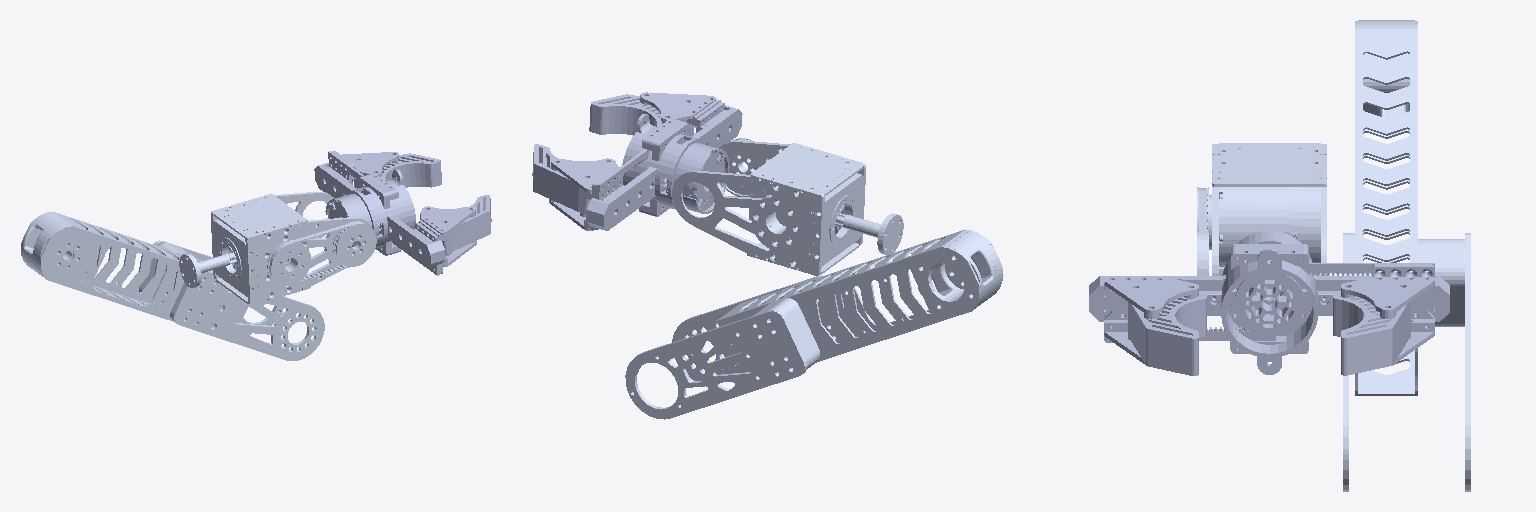
URDF robot description (engineer):
<?xml version="1.0" encoding="utf-8"?>
<robot name="engineer">

  <link name="base_link">
    <inertial>
      <origin xyz="0.00030037 1.9092E-05 0.047222" rpy="0 0 0" />
      <mass value="0.69152" />
      <inertia ixx="0.00080599" ixy="-3.5231E-09" ixz="-4.3565E-08" iyy="0.00052506" iyz="-1.1744E-08" izz="0.00121" />
    </inertial>
    <visual>
      <origin xyz="0 0 0" rpy="0 0 0" />
      <geometry>
        <mesh filename="package://rm_description/meshes/base_link.STL" />
      </geometry>
      <material name="">
        <color rgba="0.86667 0.9098 1 1" />
      </material>
    </visual>
    <collision>
      <origin xyz="0 0 0" rpy="0 0 0" />
      <geometry>
        <mesh filename="package://rm_description/meshes/base_link.STL" />
      </geometry>
    </collision>
  </link>

  <link name="link_1">
    <inertial>
      <origin xyz="9.3842E-05 0.04132 -0.01345" rpy="0 0 0" />
      <mass value="0.45604" />
      <inertia ixx="0.00047426" ixy="4.8904E-09" ixz="-2.522E-08" iyy="0.00088038" iyz="8.5229E-09" izz="0.00054714" />
    </inertial>
    <visual>
      <origin xyz="0 0 0" rpy="0 0 0" />
      <geometry>
        <mesh filename="package://rm_description/meshes/link_1.STL" />
      </geometry>
      <material name="">
        <color rgba="0.79216 0.81961 0.93333 1" />
      </material>
    </visual>
    <collision>
      <origin xyz="0 0 0" rpy="0 0 0" />
      <geometry>
        <mesh filename="package://rm_description/meshes/link_1.STL" />
      </geometry>
    </collision>
  </link>

  <joint name="Joint_1" type="revolute">
    <origin xyz="0 0 0.1537" rpy="0 0 0" />
    <parent link="base_link" />
    <child link="link_1" />
    <axis xyz="0 0 -1" />
    <limit lower="-3.14" upper="3.14" effort="20" velocity="3.14" />
  </joint>

  <link name="link_2">
    <inertial>
      <origin xyz="-9.1476E-12 -0.16105 0.022952" rpy="0 0 0" />
      <mass value="0.46831" />
      <inertia ixx="0.0015771" ixy="-1.5472E-12" ixz="9.6087E-12" iyy="0.00024772" iyz="-1.4099E-06" izz="0.0017042" />
    </inertial>
    <visual>
      <origin xyz="0 0 0" rpy="0 0 0" />
      <geometry>
        <mesh filename="package://rm_description/meshes/link_2.STL" />
      </geometry>
      <material name="">
        <color rgba="0.86667 0.9098 1 1" />
      </material>
    </visual>
    <collision>
      <origin xyz="0 0 0" rpy="0 0 0" />
      <geometry>
        <mesh filename="package://rm_description/meshes/link_2.STL" />
      </geometry>
    </collision>
  </link>

  <joint name="Joint_2" type="revolute">
    <origin xyz="0 0 0" rpy="-1.5708 -1.07 0" />
    <parent link="link_1" />
    <child link="link_2" />
    <axis xyz="0 0 -1" />
    <limit lower="-3.14" upper="3.14" effort="40" velocity="3.14" />
  </joint>

  <link name="link_3">
    <inertial>
      <origin xyz="-0.0086386 0.052282 0.0060748" rpy="0 0 0" />
      <mass value="0.86383" />
      <inertia ixx="0.0010242" ixy="9.2316E-05" ixz="-9.3667E-07" iyy="0.00063197" iyz="-2.0009E-06" izz="0.0010338" />
    </inertial>
    <visual>
      <origin xyz="0 0 0" rpy="0 0 0" />
      <geometry>
        <mesh filename="package://rm_description/meshes/link_3.STL" />
      </geometry>
      <material name="">
        <color rgba="0.75294 0.75294 0.75294 1" />
      </material>
    </visual>
    <collision>
      <origin xyz="0 0 0" rpy="0 0 0" />
      <geometry>
        <mesh filename="package://rm_description/meshes/link_3.STL" />
      </geometry>
    </collision>
  </link>

  <joint name="Joint_3" type="revolute">
    <origin xyz="0 -0.295 -0.05765" rpy="0 0 -0.55" />
    <parent link="link_2" />
    <child link="link_3" />
    <axis xyz="0 0 1" />
    <limit lower="-3.14" upper="3.14" effort="30" velocity="3.14" />
  </joint>

  <link name="link_4">
    <inertial>
      <origin xyz="0.00031203 0.0049107 -0.080078" rpy="0 0 0" />
      <mass value="0.35626" />
      <inertia ixx="0.00023409" ixy="-2.327E-12" ixz="9.1544E-09" iyy="0.00027599" iyz="-4.4166E-09" izz="0.00014292" />
    </inertial>
    <visual>
      <origin xyz="0 0 0" rpy="0 0 0" />
      <geometry>
        <mesh filename="package://rm_description/meshes/link_4.STL" />
      </geometry>
      <material name="">
        <color rgba="0.86667 0.9098 1 1" />
      </material>
    </visual>
    <collision>
      <origin xyz="0 0 0" rpy="0 0 0" />
      <geometry>
        <mesh filename="package://rm_description/meshes/link_4.STL" />
      </geometry>
    </collision>
  </link>

  <joint name="Joint_4" type="continuous">
    <origin xyz="-0.0245 0.27098 0" rpy="-1.5708 0 0" />
    <parent link="link_3" />
    <child link="link_4" />
    <axis xyz="0 0 -1" />
    <limit lower="-3.14" upper="3.14" effort="3" velocity="3.14" />
  </joint>

  <link name="link_5">
    <inertial>
      <origin xyz="-7.1873E-05 0.0032566 3.0102E-05" rpy="0 0 0" />
      <mass value="0.10486" />
      <inertia ixx="4.2308E-05" ixy="2.4033E-08" ixz="-6.701E-10" iyy="5.8686E-05" iyz="-4.3159E-09" izz="3.571E-05" />
    </inertial>
    <visual>
      <origin xyz="0 0 0" rpy="0 0 0" />
      <geometry>
        <mesh filename="package://rm_description/meshes/link_5.STL" />
      </geometry>
      <material name="">
        <color rgba="0.79216 0.81961 0.93333 1" />
      </material>
    </visual>
    <collision>
      <origin xyz="0 0 0" rpy="0 0 0" />
      <geometry>
        <mesh filename="package://rm_description/meshes/link_5.STL" />
      </geometry>
    </collision>
  </link>

  <joint name="Joint_5" type="revolute">
    <origin xyz="0 0 0" rpy="1.5708 0 0" />
    <parent link="link_4" />
    <child link="link_5" />
    <axis xyz="0 0 -1" />
    <limit lower="-3.14" upper="3.14" effort="9" velocity="3.14" />
  </joint>

  <link name="link_6">
    <inertial>
      <origin xyz="-1.6619E-15 3.4979E-14 0.048234" rpy="0 0 0" />
      <mass value="0.034232" />
      <inertia ixx="2.1585E-05" ixy="1.7922E-13" ixz="-1.8119E-20" iyy="2.3017E-05" iyz="3.404E-20" izz="2.6117E-05" />
    </inertial>
    <visual>
      <origin xyz="0 0 0" rpy="0 0 0" />
      <geometry>
        <mesh filename="package://rm_description/meshes/link_6.STL" />
      </geometry>
      <material name="">
        <color rgba="0.79216 0.81961 0.93333 1" />
      </material>
    </visual>
    <collision>
      <origin xyz="0 0 0" rpy="0 0 0" />
      <geometry>
        <mesh filename="package://rm_description/meshes/link_6.STL" />
      </geometry>
    </collision>
  </link>

  <joint name="Joint_6" type="revolute">
    <origin xyz="0 0 0" rpy="-1.5708 0 0" />
    <parent link="link_5" />
    <child link="link_6" />
    <axis xyz="0 0 1" />
    <limit lower="-3.14" upper="3.14" effort="3" velocity="3.14" />
  </joint>

  <!-- ==================== 夹爪部分 (原 gripper.urdf，重命名 base_link 为 gripper_base_link) ==================== -->
  <link name="gripper_base_link">
    <inertial>
      <origin xyz="7.2736E-05 2.8921E-05 0.041036" rpy="0 0 0" />
      <mass value="0.10913" />
      <inertia ixx="2.7236E-05" ixy="6.6965E-10" ixz="-2.4035E-08" iyy="0.00021318" iyz="-4.3193E-09" izz="0.0002363" />
    </inertial>
    <visual>
      <origin xyz="0 0 0" rpy="0 0 0" />
      <geometry>
        <mesh filename="package://rm_description/meshes/gripper_base_link.STL" />
      </geometry>
      <material name="">
        <color rgba="0.79216 0.81961 0.93333 1" />
      </material>
    </visual>
    <collision>
      <origin xyz="0 0 0" rpy="0 0 0" />
      <geometry>
        <mesh filename="package://rm_description/meshes/gripper_base_link.STL" />
      </geometry>
    </collision>
  </link>

  <link name="link_gripper_left">
    <inertial>
      <origin xyz="-0.024393 0.0010842 -0.071878" rpy="0 0 0" />
      <mass value="0.074092" />
      <inertia ixx="1.6574E-05" ixy="-1.1348E-08" ixz="-1.8449E-06" iyy="3.671E-05" iyz="-4.7593E-08" izz="2.7477E-05" />
    </inertial>
    <visual>
      <origin xyz="0 0 0" rpy="0 0 0" />
      <geometry>
        <mesh filename="package://rm_description/meshes/link_gripper_left.STL" />
      </geometry>
      <material name="">
        <color rgba="0.79216 0.81961 0.93333 1" />
      </material>
    </visual>
    <collision>
      <origin xyz="0 0 0" rpy="0 0 0" />
      <geometry>
        <mesh filename="package://rm_description/meshes/link_gripper_left.STL" />
      </geometry>
    </collision>
  </link>

  <joint name="joint_gripper_left" type="prismatic">
    <origin xyz="0 0 0.114" rpy="3.1416 -1.5708 0" />
    <parent link="gripper_base_link" />
    <child link="link_gripper_left" />
    <axis xyz="0.078458 0 -0.99692" />
    <limit lower="-0.03" upper="0.03" effort="0" velocity="0" />
  </joint>

  <link name="link_gripper_right">
    <inertial>
      <origin xyz="-0.023454 -0.0010842 0.071878" rpy="0 0 0" />
      <mass value="0.074092" />
      <inertia ixx="1.6574E-05" ixy="1.1348E-08" ixz="1.8449E-06" iyy="3.671E-05" iyz="-4.7593E-08" izz="2.7477E-05" />
    </inertial>
    <visual>
      <origin xyz="0 0 0" rpy="0 0 0" />
      <geometry>
        <mesh filename="package://rm_description/meshes/link_gripper_right.STL" />
      </geometry>
      <material name="">
        <color rgba="0.79216 0.81961 0.93333 1" />
      </material>
    </visual>
    <collision>
      <origin xyz="0 0 0" rpy="0 0 0" />
      <geometry>
        <mesh filename="package://rm_description/meshes/link_gripper_right.STL" />
      </geometry>
    </collision>
  </link>

  <joint name="joint_gripper_right" type="prismatic">
    <origin xyz="0 0 0.114" rpy="3.1416 -1.5708 0" />
    <parent link="gripper_base_link" />
    <child link="link_gripper_right" />
    <axis xyz="0.078458 0 -0.99692" />
    <limit lower="-0.03" upper="0.03" effort="0" velocity="0" />
    <mimic joint="joint_gripper_left" />
    <multiplier value="-1.0" />
  </joint>


  <joint name="joint_gripper_attach" type="fixed">
    <origin xyz="0 0 0" rpy="0 0 1.57" />
    <parent link="link_6" />
    <child link="gripper_base_link" />
  </joint>

</robot>

--- Facts derived from the render (not from the file) ---
The picture shows the robot from 3 angles, left to right: view 1: azimuth 30°, elevation 25°; view 2: azimuth 150°, elevation 25°; view 3: azimuth 270°, elevation 25°; orthographic projection.
Robot: engineer — 10 links, 9 joints (5 revolute, 1 continuous, 2 prismatic, 1 fixed); root link base_link; default pose: all joints at 0.
Links seen in each view (by area): view 1: link_2, link_4, gripper_base_link, link_gripper_right, link_gripper_left, link_6; view 2: link_2, link_4, gripper_base_link, link_gripper_left, link_gripper_right, link_6; view 3: link_2, link_4, link_gripper_left, gripper_base_link, link_gripper_right, link_6.
Link boxes in pixels (left/top/right/bottom): link_2: left=21, top=211, right=324, bottom=360; link_4: left=179, top=192, right=376, bottom=305; gripper_base_link: left=314, top=163, right=445, bottom=267; link_gripper_right: left=393, top=195, right=491, bottom=275; link_gripper_left: left=328, top=151, right=441, bottom=188; link_6: left=346, top=169, right=415, bottom=247; link_2: left=625, top=229, right=1003, bottom=419; link_4: left=672, top=138, right=903, bottom=275; gripper_base_link: left=586, top=105, right=742, bottom=230; link_gripper_left: left=532, top=144, right=649, bottom=230; link_gripper_right: left=589, top=92, right=726, bottom=189; link_6: left=622, top=114, right=705, bottom=209; link_2: left=1343, top=20, right=1470, bottom=491; link_4: left=1197, top=143, right=1326, bottom=297; link_gripper_left: left=1299, top=263, right=1434, bottom=375; gripper_base_link: left=1089, top=231, right=1449, bottom=353; link_gripper_right: left=1104, top=277, right=1275, bottom=375; link_6: left=1221, top=239, right=1317, bottom=374.
Size in the robot's own frame: 0.4566 by 0.2432 by 0.2071 metres.
Meshes: 10 distinct files referenced, 6 mesh visuals loaded (6 binary STL); not drawn: 4 (reference not matched to a file when rendering).
